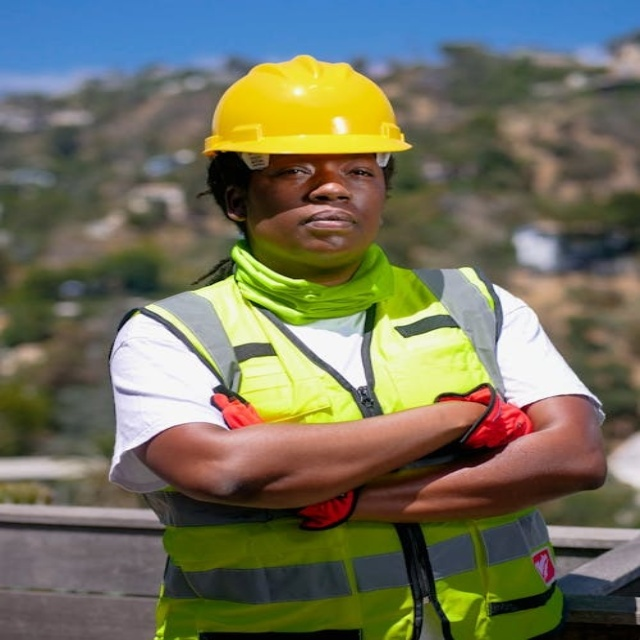Guantes: (426, 373, 547, 454), (205, 380, 292, 432)
Sin_gafas: (260, 156, 380, 184)
Sin_mascara: (283, 206, 372, 241)
